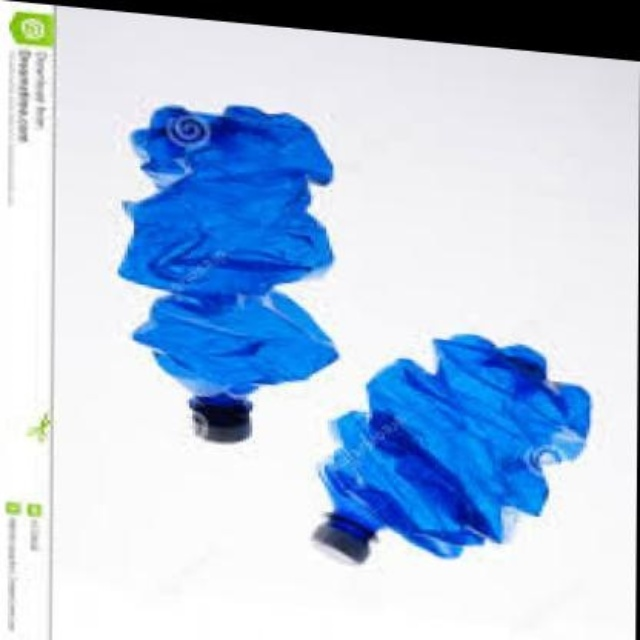trash: (118, 106, 337, 440), (323, 335, 589, 555)
